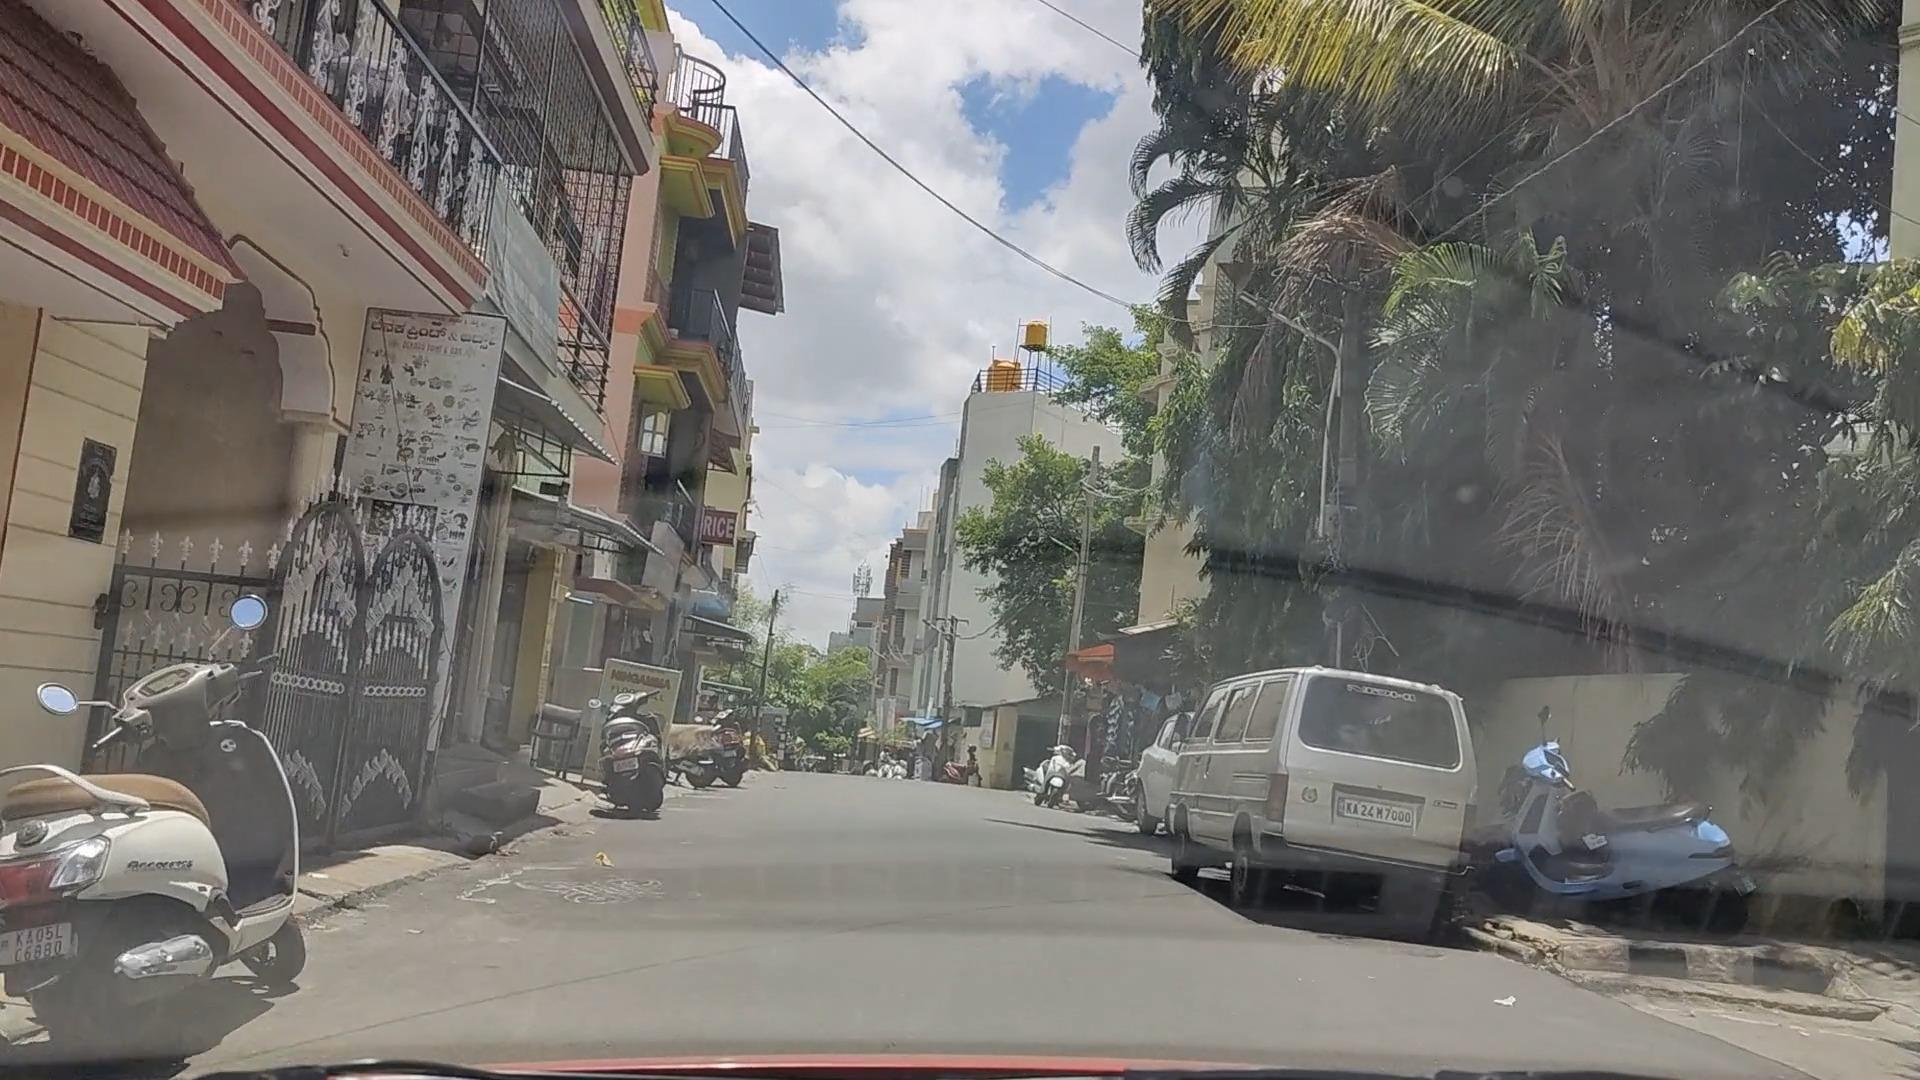LMV: (25, 596, 287, 1046), (1189, 667, 1474, 920)
